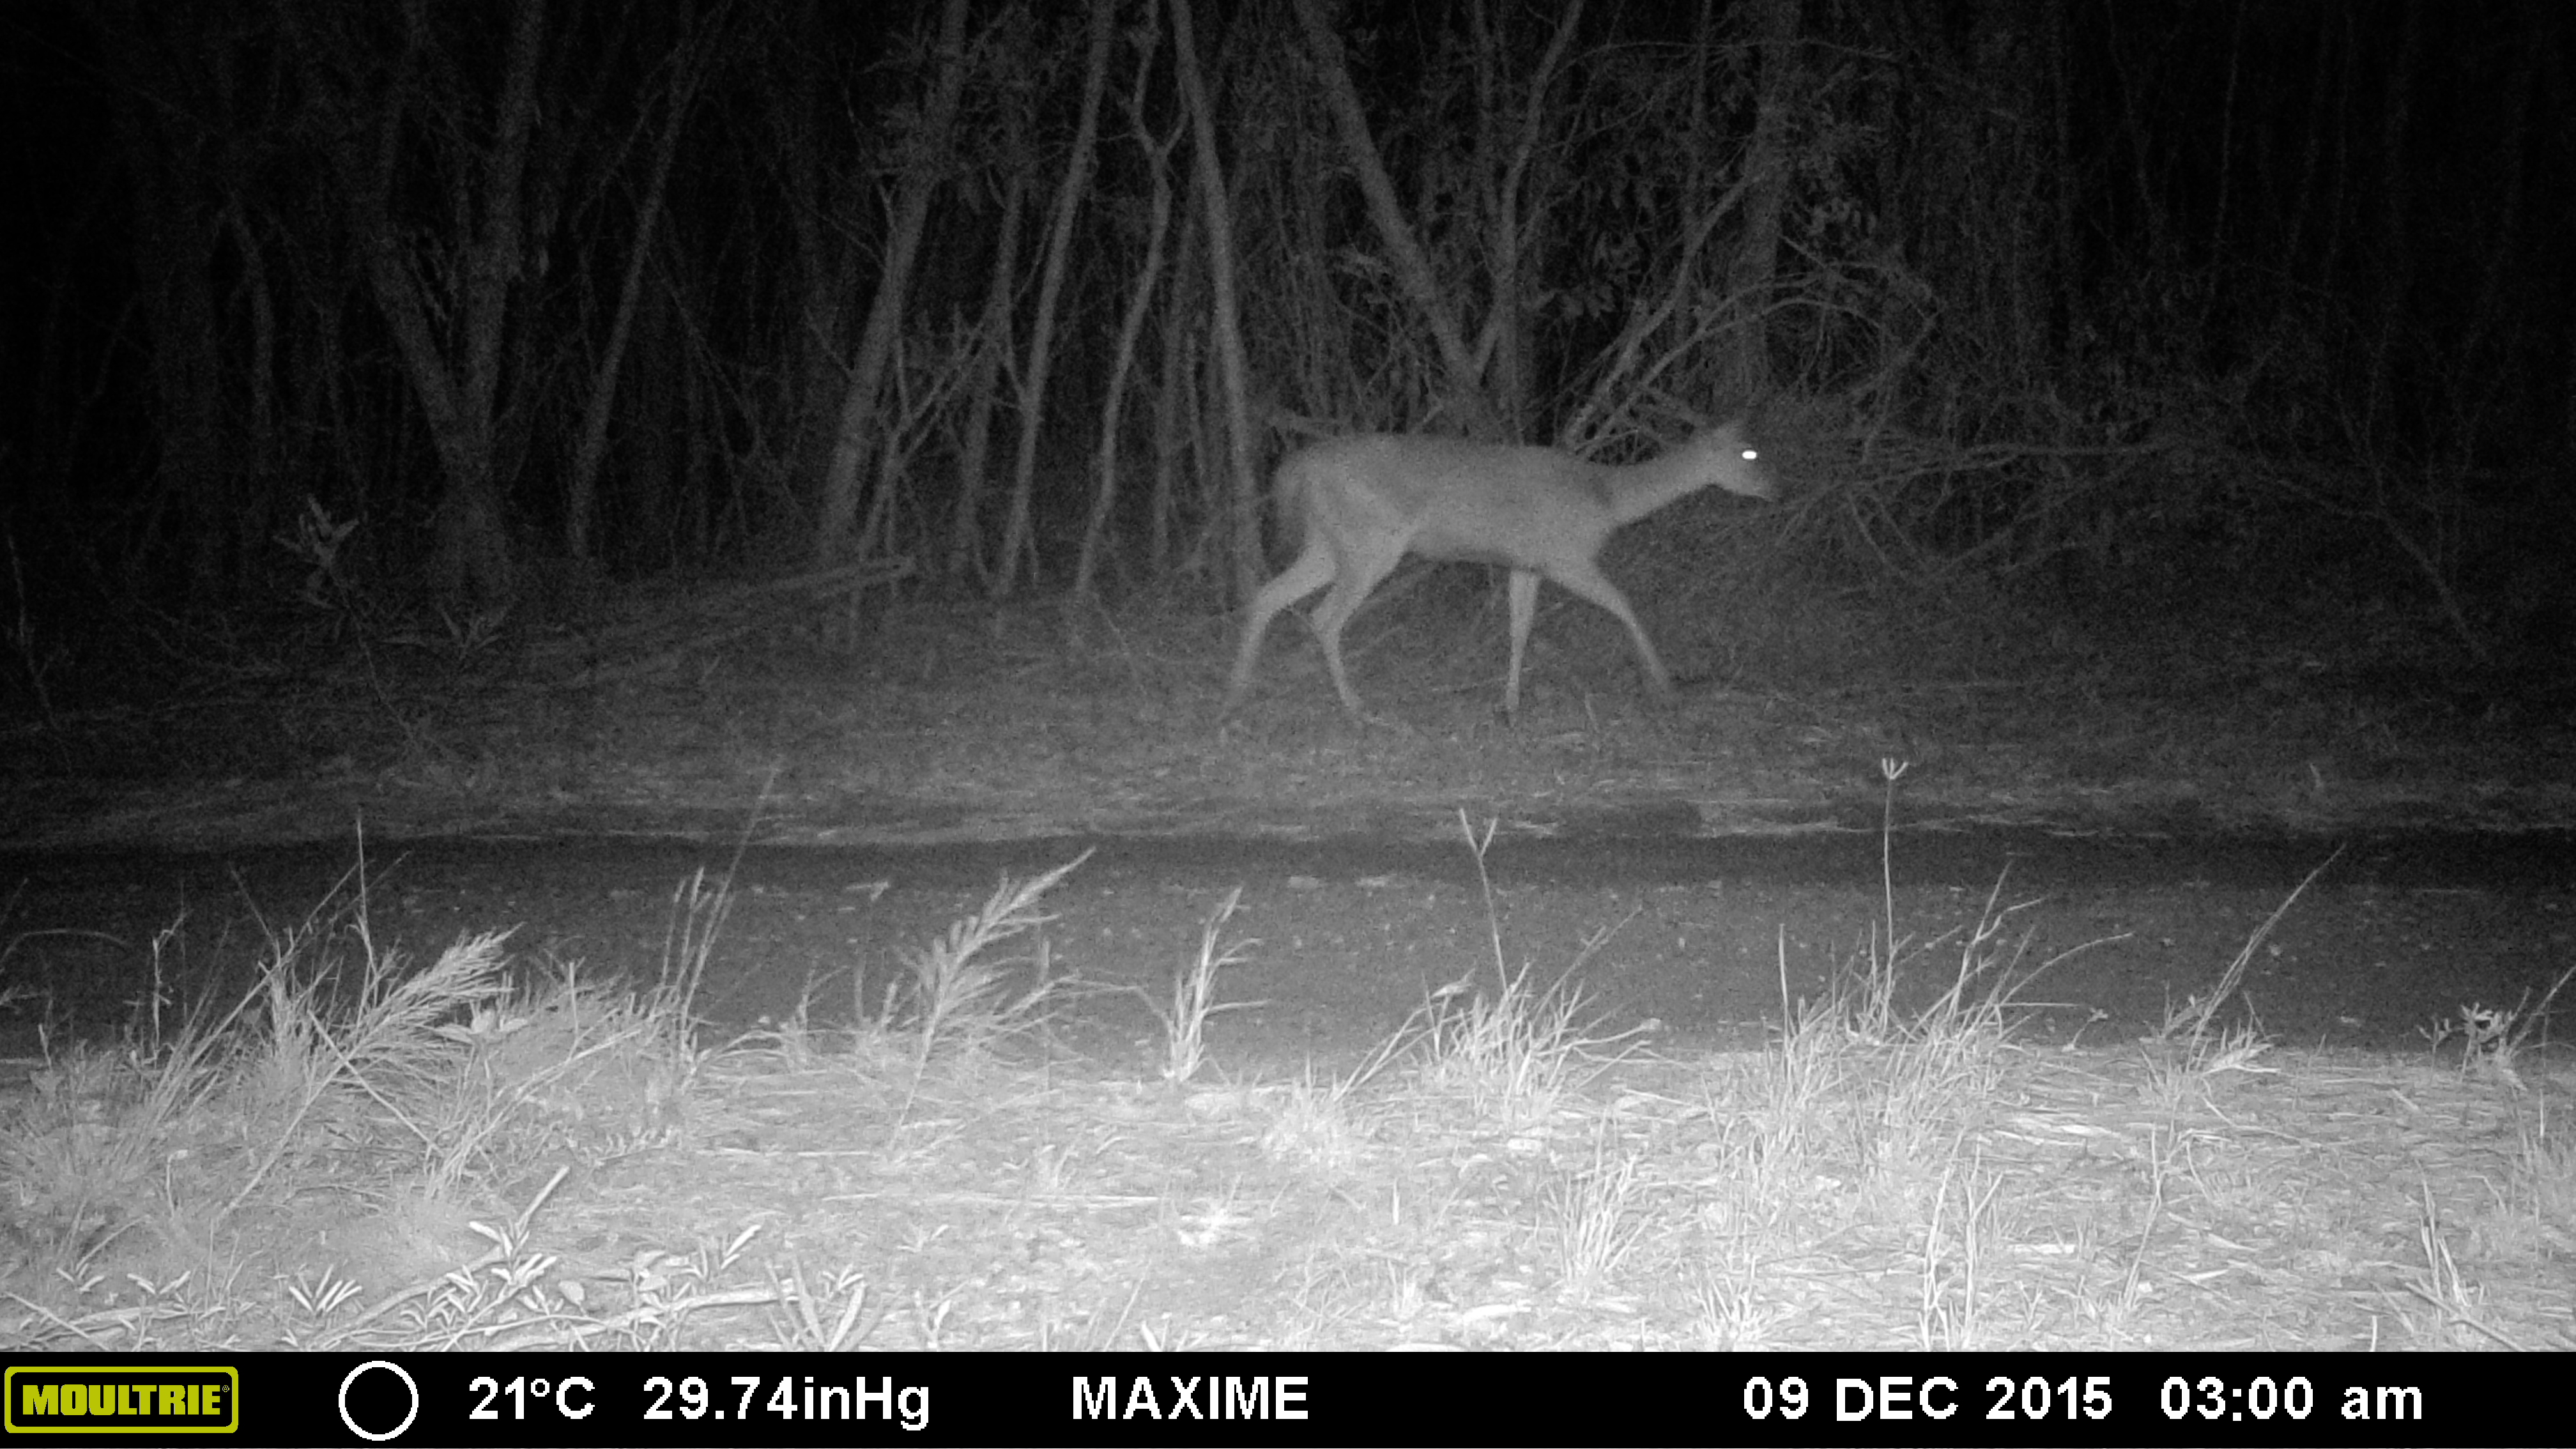Deer: (1200, 409, 1796, 757)
